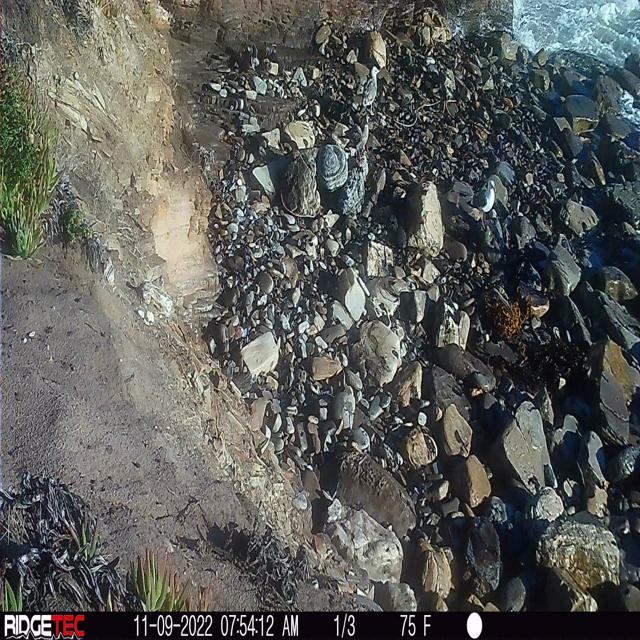bird: (343, 107, 374, 158)
